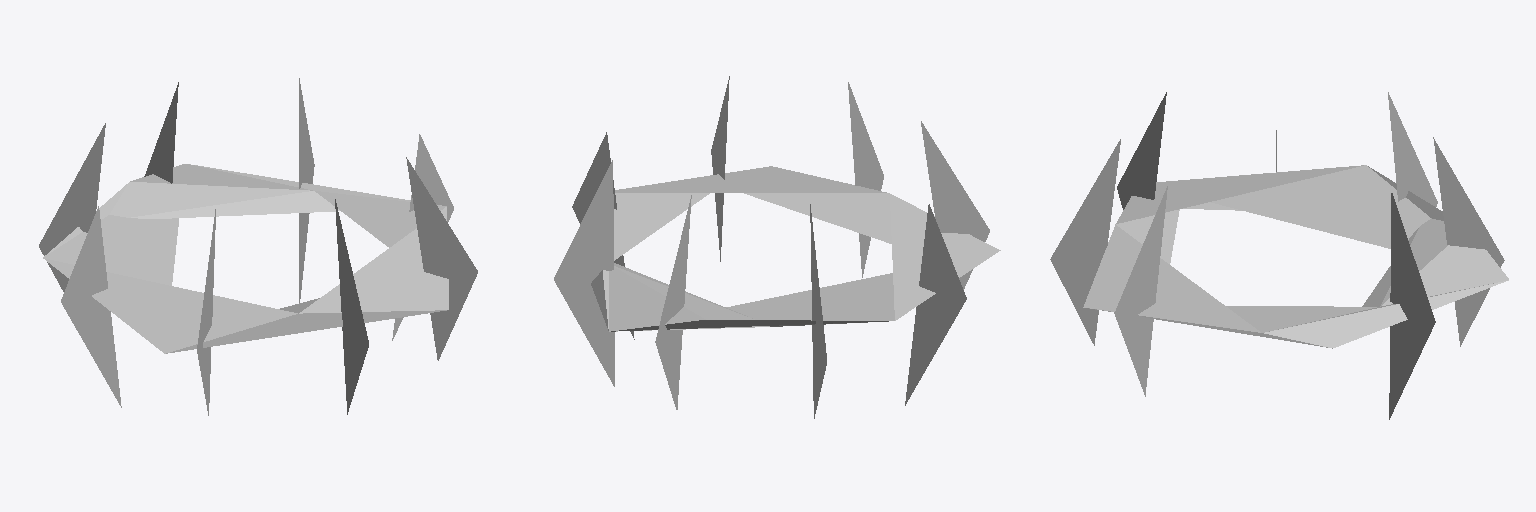
The model's file is warpstation-0.0.obj.
The picture shows the model from 3 angles: view 1: azimuth 30°, elevation 25°; view 2: azimuth 150°, elevation 25°; view 3: azimuth 270°, elevation 25°; orthographic projection.
Parts seen in each view (by area): view 1: Circle.011; view 2: Circle.011; view 3: Circle.011.
Boxes of the visible parts, box(x1,y1,x2,y2) form: Circle.011: box(39, 78, 477, 415); Circle.011: box(554, 76, 1000, 418); Circle.011: box(1050, 92, 1508, 419).
Bounding box in the file's own units: 40.25 × 23.13 × 40.61.